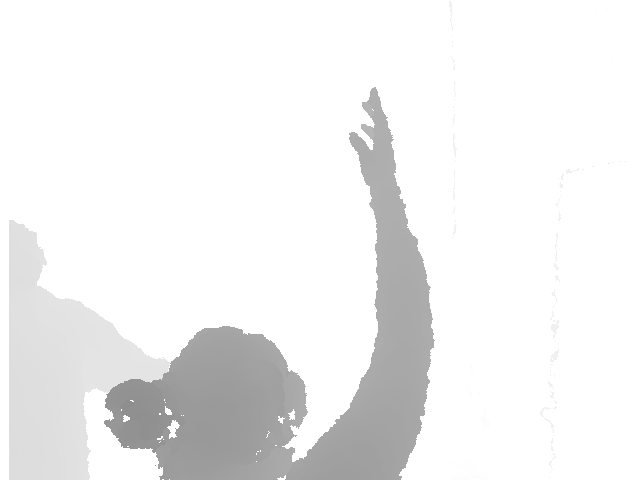hand: (349, 86, 399, 192)
head: (105, 326, 308, 469), (8, 218, 45, 291)
person: (105, 86, 436, 480), (8, 218, 173, 480)
